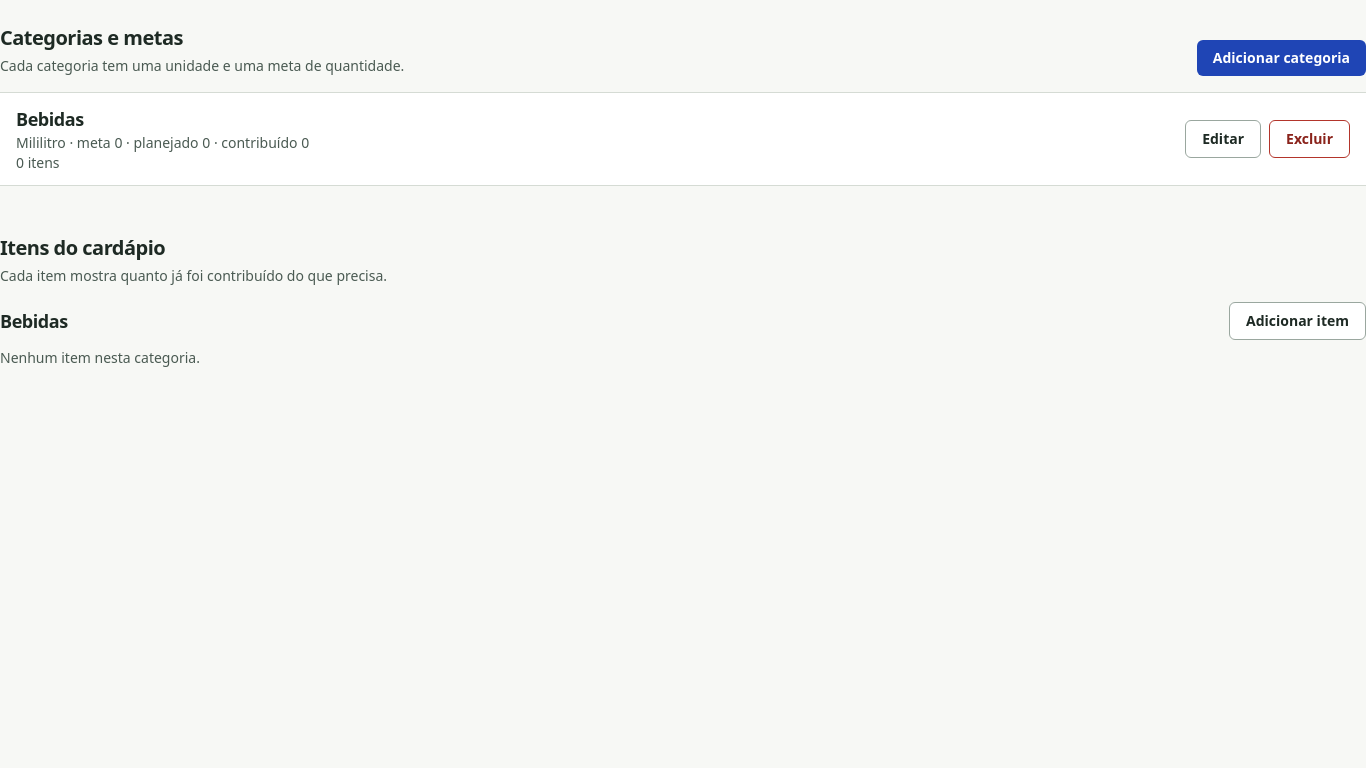
Test: MenuTab: categories › edits a category with its data filled in, and sends PUT
The image size is (1366, 768).
Click the button with aria-label "Editar Bebidas" at coordinates (1223, 139), box [1185,120,1261,158]
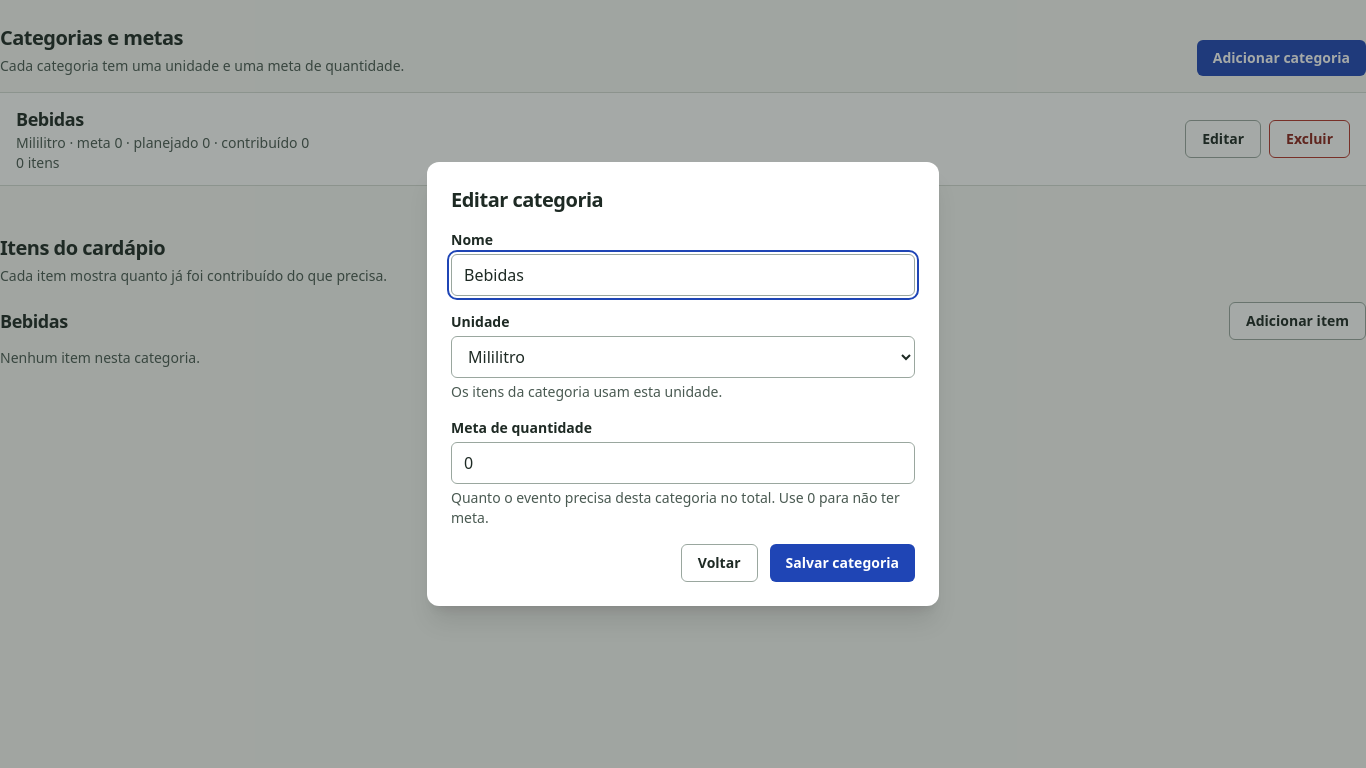
Expected: the field labelled "Nome" holds "Bebidas"
Expected: the dropdown labelled "Unidade" shows "Mililitro", [451,336,915,378]
Replace the text in the field labelled "Nome" with "Sucos" at coordinates (683, 275), box [451,254,915,296]
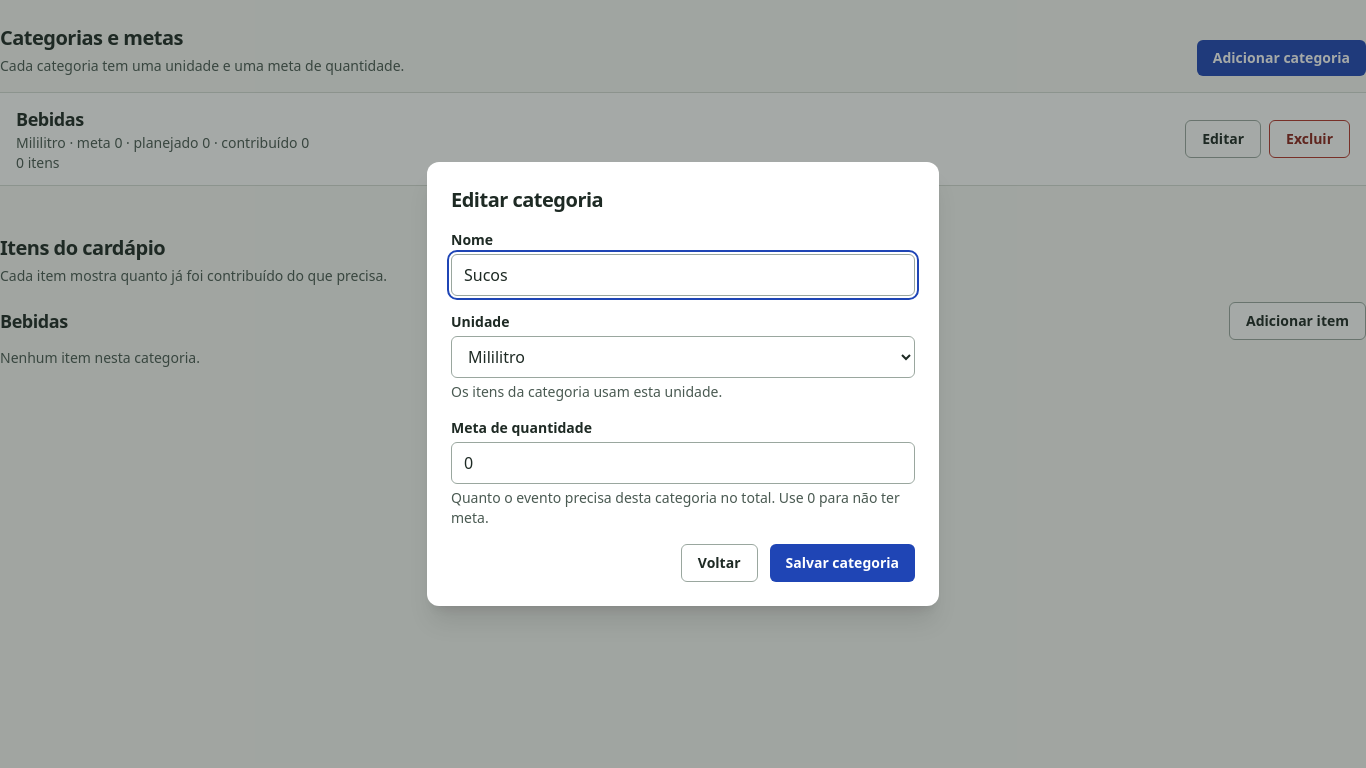
Click the button "Salvar categoria" at coordinates (842, 563), box [770,544,915,582]
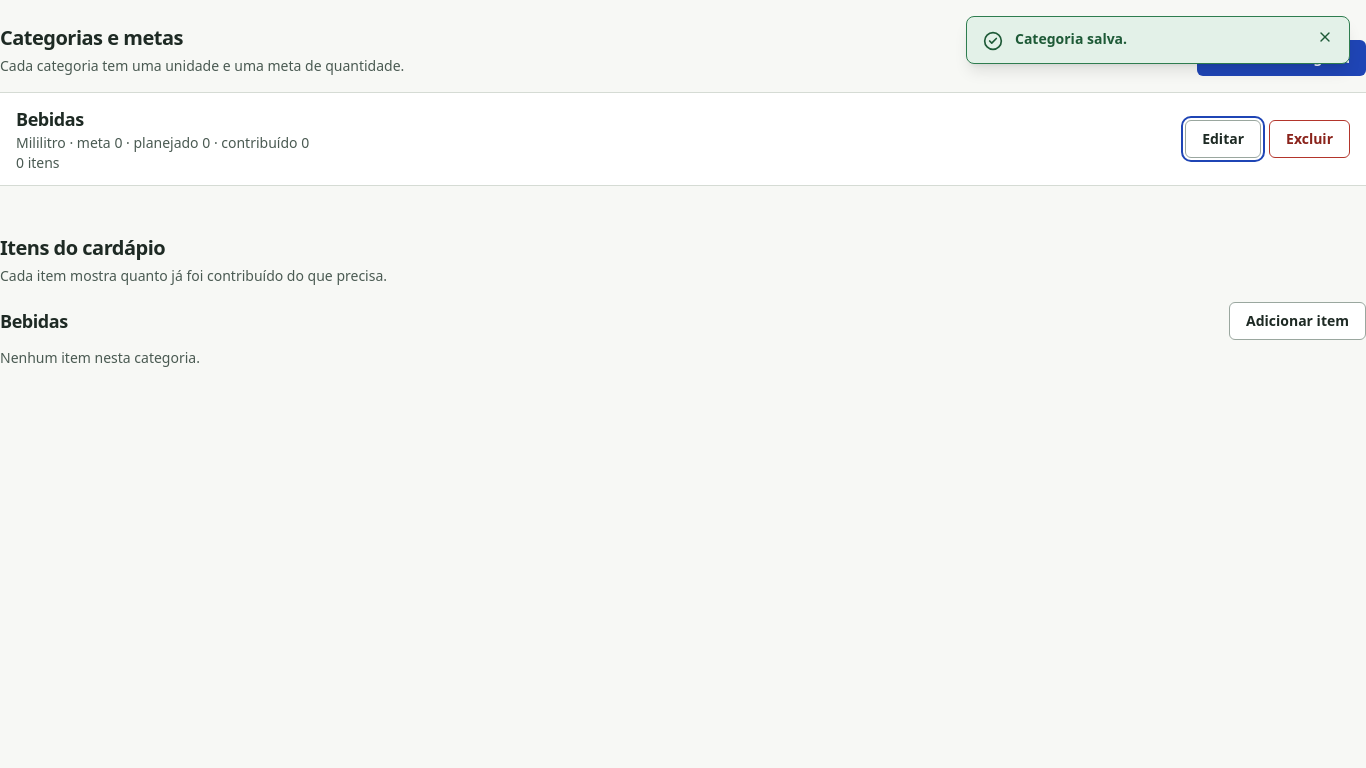
Expected: the text "Categoria salva." is shown, [1015,29,1127,48]
